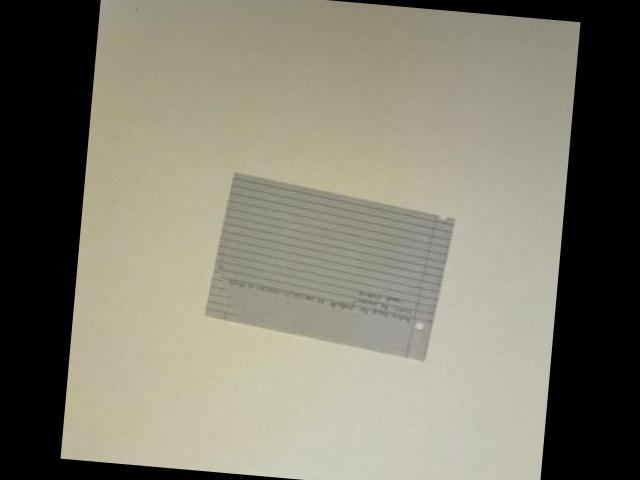cardboard paper: (204, 175, 450, 360)
